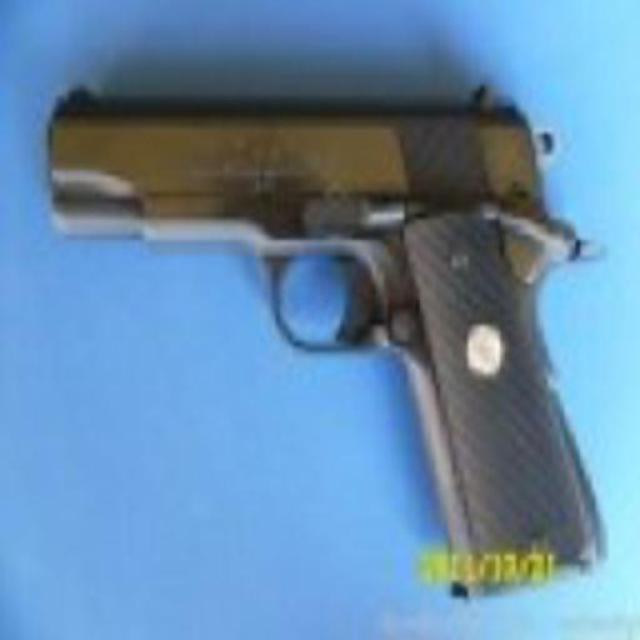pistol: (35, 68, 620, 596)
